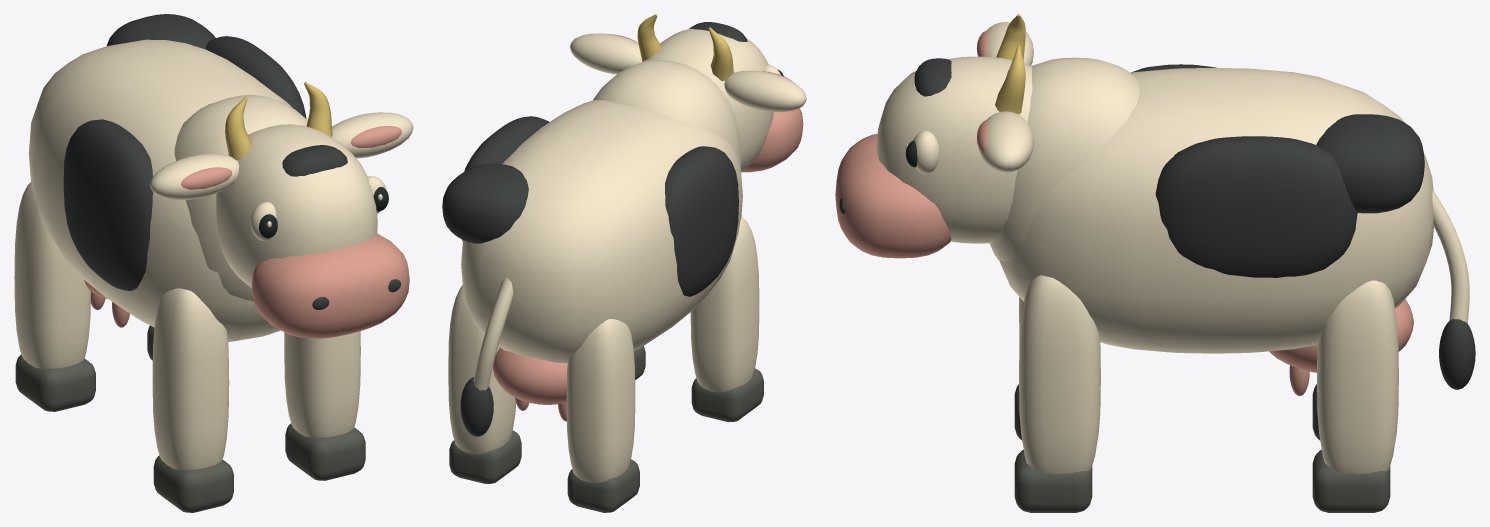
The model's file is cow.glb.
The picture shows the model from 3 angles, left to right: view 1: azimuth 30°, elevation 25°; view 2: azimuth 150°, elevation 25°; view 3: azimuth 270°, elevation 25°; orthographic projection. The views are drawn at different scales.
Parts seen in each view (by area): view 1: CowBody, Head, BlackPatch.001, Leg, Muzzle, Leg.001, Leg.002, Shoulder, Hoof.001, Hoof, Hoof.002, BlackPatch (+9 smaller); view 2: CowBody, Leg.001, BlackPatch.001, Leg, Shoulder, BlackPatch.002, Leg.003, Head, Udder, Ear, Hoof.001, Hoof.003 (+9 smaller); view 3: CowBody, BlackPatch, Head, Leg.002, Leg.003, Shoulder, Muzzle, BlackPatch.002, Hoof.003, Hoof.002, Ear.001, TailStem (+7 smaller).
Part boxes in pixels (x1,y1,x2,y2): CowBody: (28, 39, 291, 342); Head: (216, 124, 377, 287); BlackPatch.001: (63, 119, 153, 290); Leg: (152, 288, 229, 469); Muzzle: (251, 233, 409, 338); Leg.001: (14, 182, 90, 368); Leg.002: (284, 331, 360, 437); Shoulder: (174, 95, 307, 301); Hoof.001: (15, 354, 95, 411); Hoof: (153, 455, 233, 512); Hoof.002: (285, 423, 365, 480); BlackPatch: (205, 36, 306, 118); CowBody: (461, 100, 742, 363); Leg.001: (566, 319, 635, 483); BlackPatch.001: (665, 146, 738, 296); Leg: (690, 216, 759, 392); Shoulder: (593, 60, 741, 167); BlackPatch.002: (442, 163, 528, 243); Leg.003: (448, 285, 515, 454); Head: (642, 28, 773, 171); Udder: (493, 348, 567, 404); Ear: (724, 70, 806, 112); Hoof.001: (567, 459, 639, 512); Hoof.003: (449, 430, 521, 483); CowBody: (999, 67, 1433, 353); BlackPatch: (1155, 136, 1357, 277); Head: (876, 56, 1032, 243); Leg.002: (1019, 275, 1100, 473); Leg.003: (1317, 280, 1398, 473); Shoulder: (989, 57, 1139, 260); Muzzle: (835, 134, 951, 258); BlackPatch.002: (1316, 114, 1424, 213); Hoof.003: (1312, 449, 1390, 512); Hoof.002: (1014, 449, 1092, 512); Ear.001: (979, 111, 1033, 172); TailStem: (1432, 190, 1469, 323).
Size of the model in its own units: 1.5 by 2.24 by 2.97.
